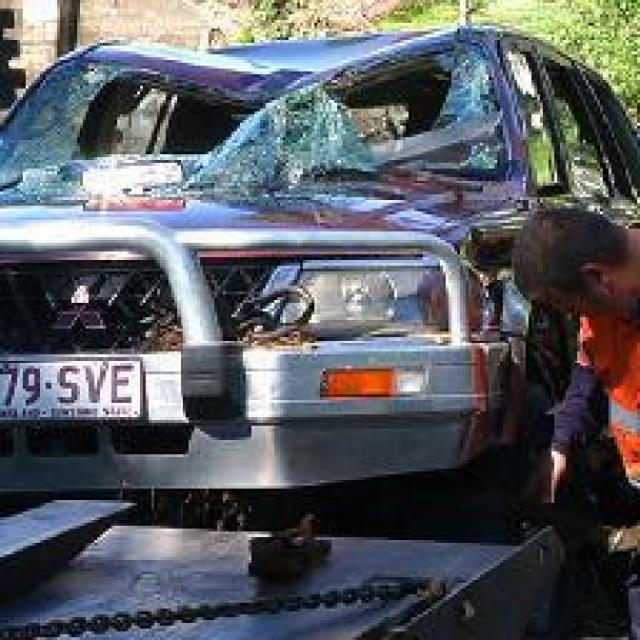damaged: (2, 28, 638, 215)
